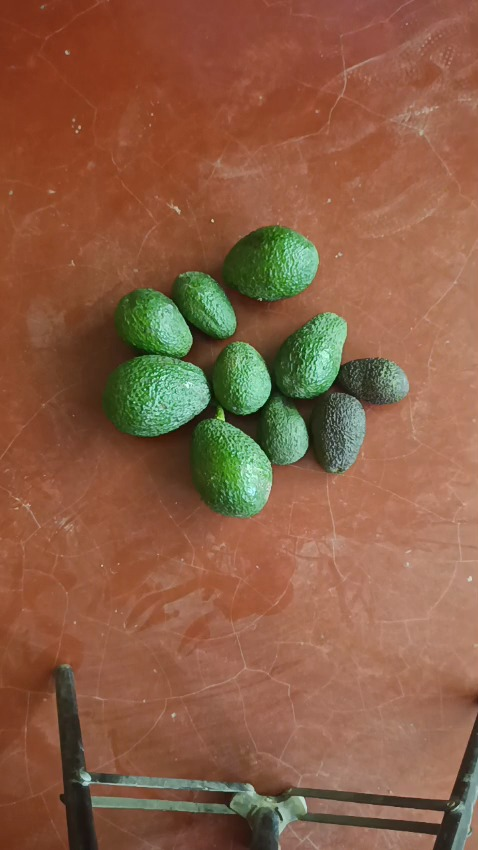Primera: (102, 355, 212, 437), (190, 410, 272, 516)
Segunda: (222, 225, 319, 302), (272, 313, 348, 400)
Tercera: (113, 287, 194, 358), (211, 341, 273, 416), (171, 271, 237, 341), (309, 391, 366, 472), (257, 390, 307, 465), (337, 357, 409, 405)
